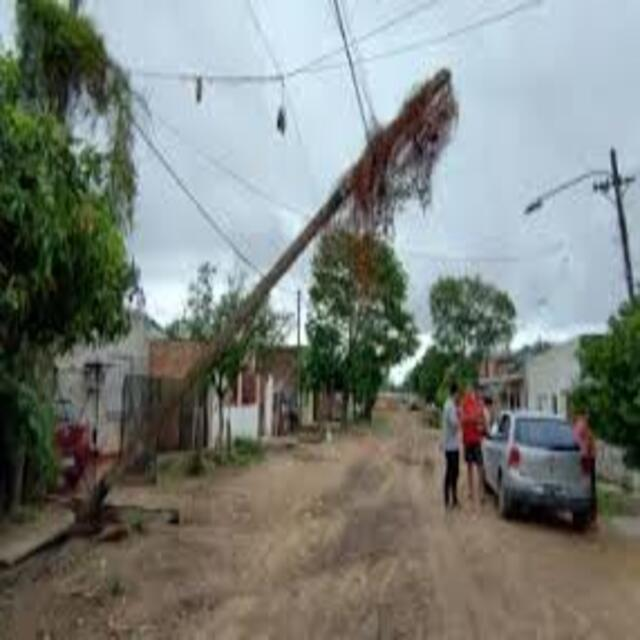Inclined Pole: (69, 57, 468, 517)
